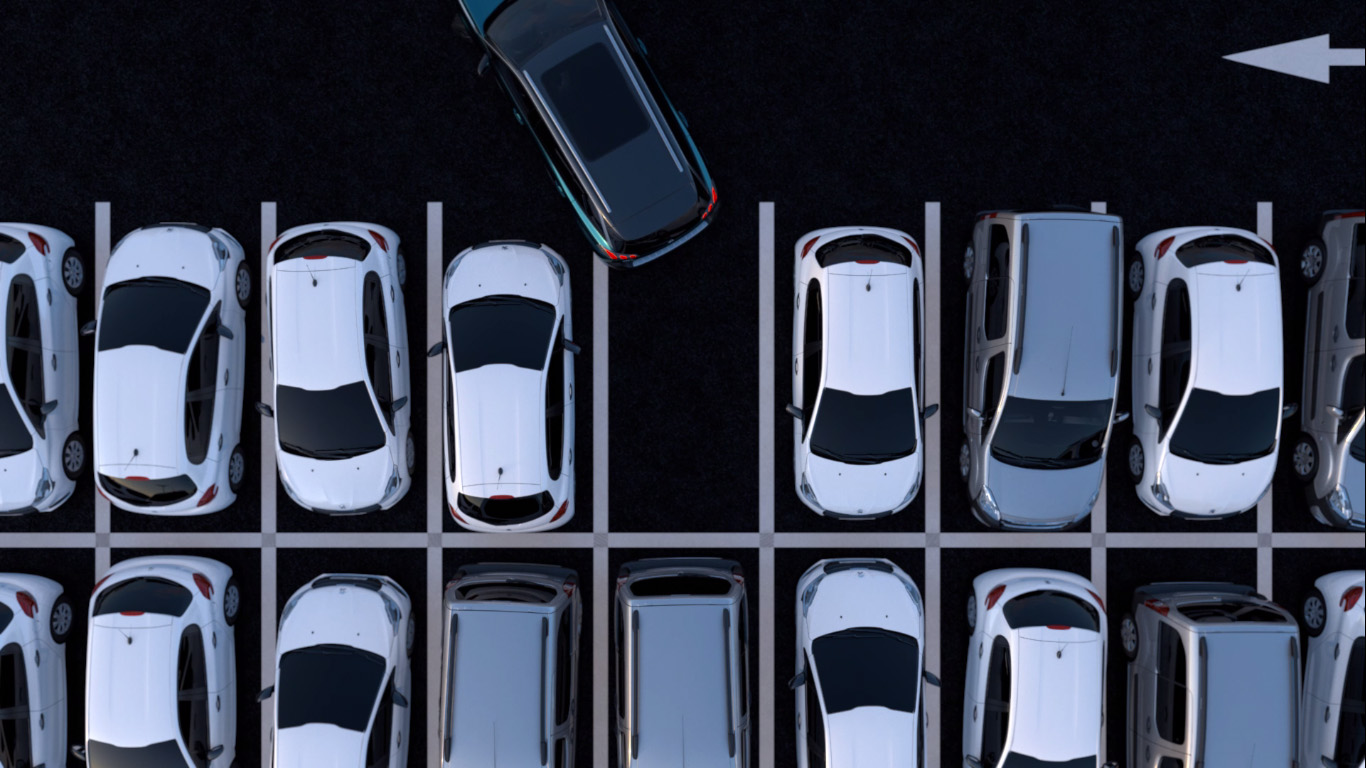Car: (959, 201, 1137, 534), (84, 213, 253, 534), (1127, 215, 1294, 538), (267, 209, 408, 530), (792, 211, 937, 521), (445, 236, 584, 540), (87, 542, 259, 768), (940, 554, 1118, 768), (1130, 564, 1300, 768), (272, 560, 431, 768), (789, 548, 937, 768), (437, 564, 592, 768), (1, 205, 94, 525), (1306, 568, 1366, 747)
LaneMark: (1, 531, 1352, 545), (1213, 26, 1366, 88), (758, 200, 776, 530), (427, 202, 443, 534), (927, 199, 942, 531), (924, 551, 942, 768), (596, 271, 608, 533)
